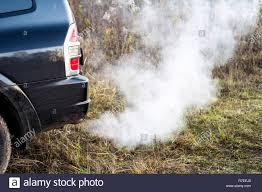smoke: (81, 0, 262, 146)
